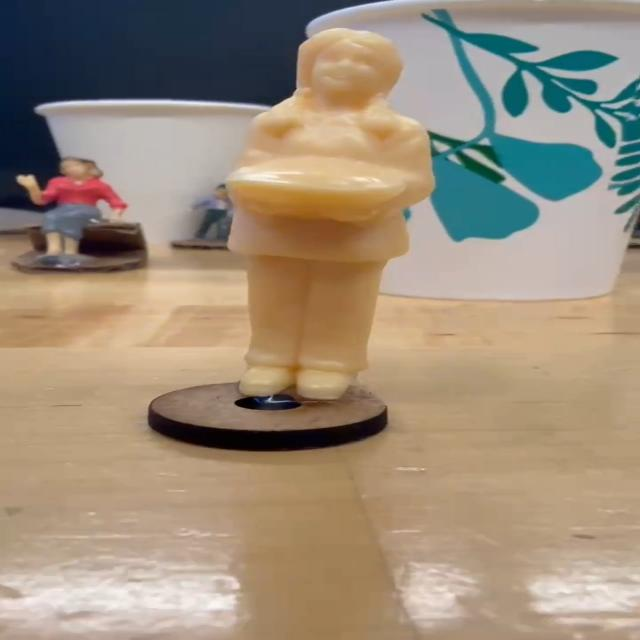Unauthorized: (167, 18, 489, 425)
